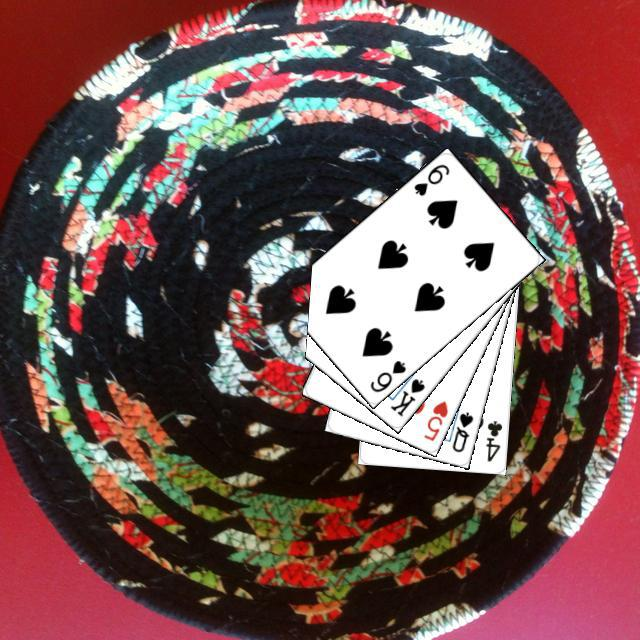4c: (481, 416, 504, 463)
5h: (419, 395, 450, 442)
6s: (365, 355, 408, 394), (409, 159, 451, 198)
Ks: (385, 373, 426, 418)
Qs: (447, 407, 475, 454)
